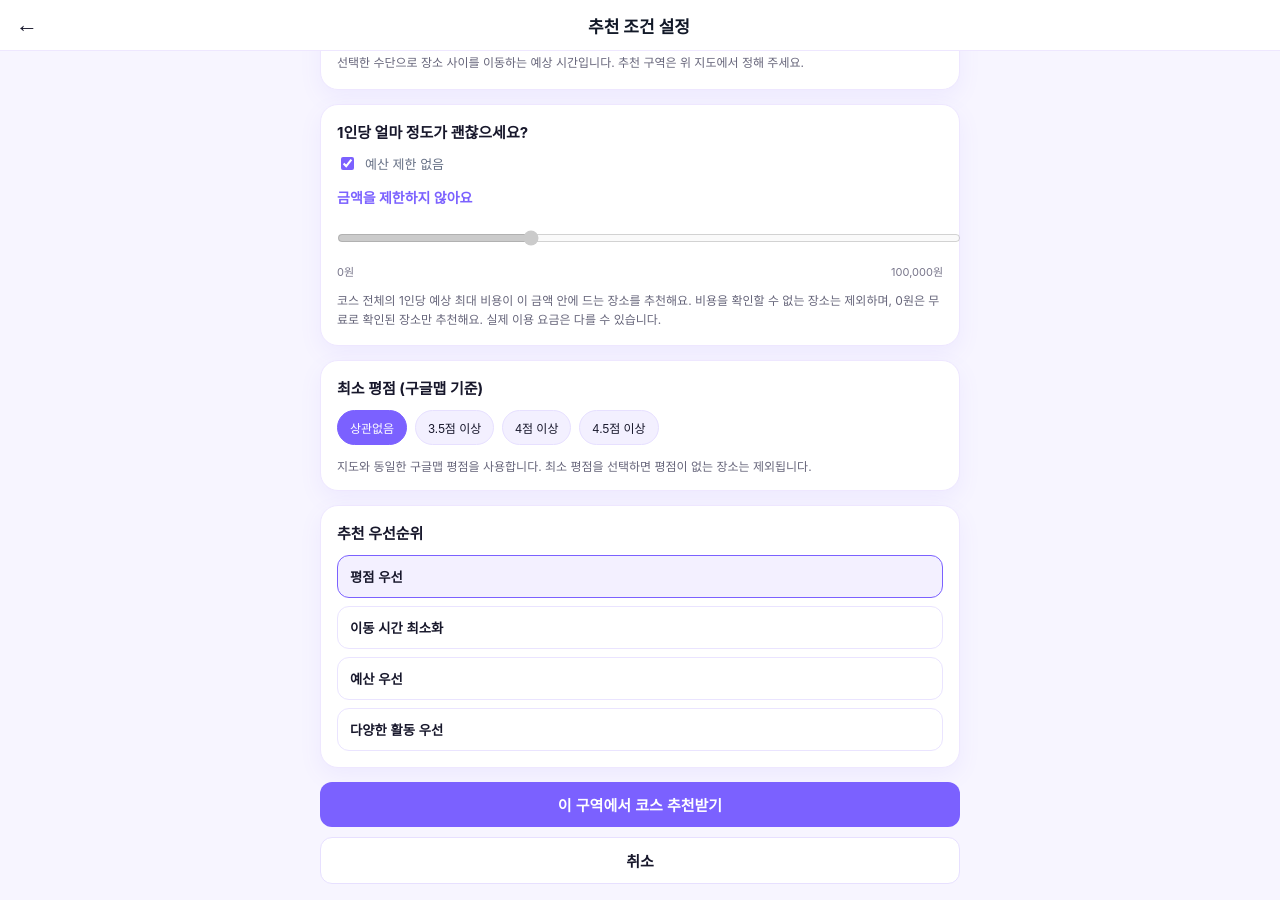
Scenario: 추천 요청 직후 로딩 화면을 표시하고 완료되면 결과로 이동
This screenshot has width=1280, height=900.
Later steps or results of the test are not shown.
(page scrolled)
Click the button "이 구역에서 코스 추천받기" at [640, 804], box left=320, top=782, right=960, bottom=827
(page scrolled)
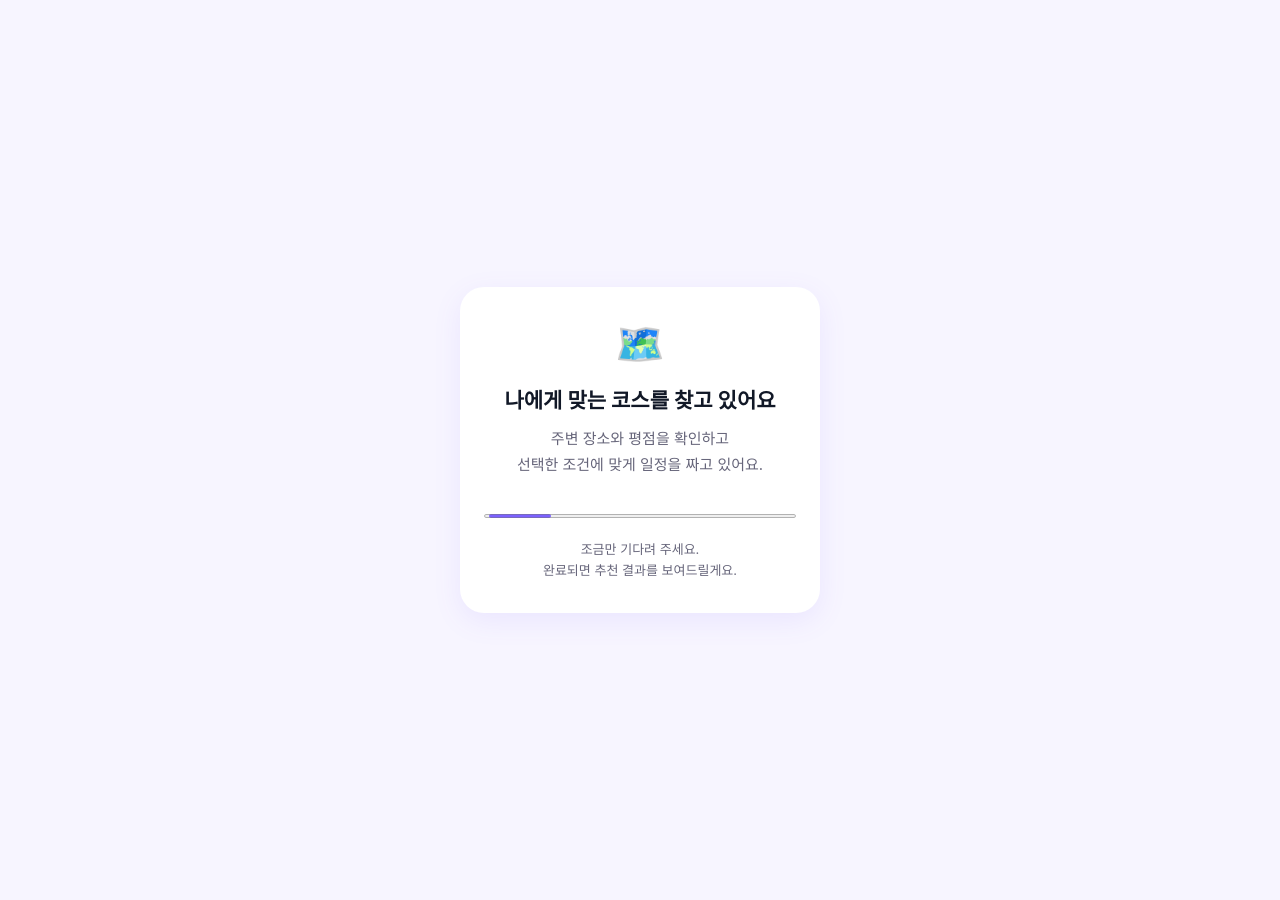
expect the message shows "나에게 맞는 코스를 찾고 있어요": met, box left=504, top=388, right=776, bottom=413
expect the progress indicator named "코스 추천 진행 중" is shown: met, box left=484, top=512, right=796, bottom=520
expect the button "추천받기" is gone: met
